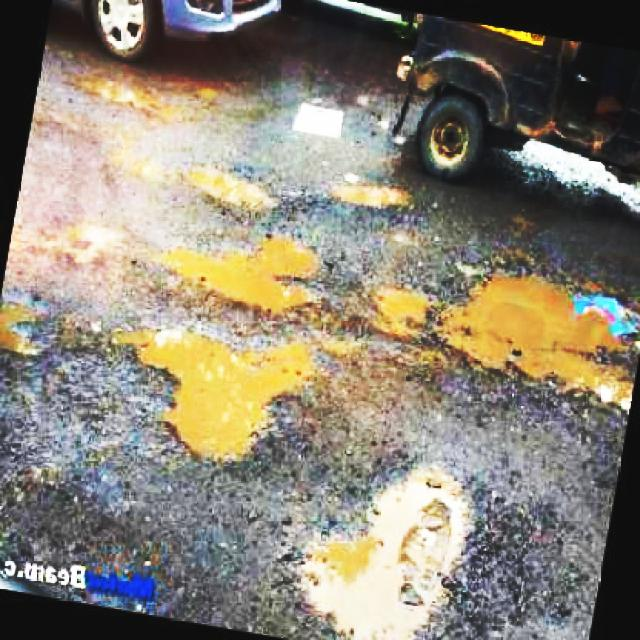pothole: (432, 243, 640, 422), (289, 469, 497, 640), (134, 312, 326, 471), (162, 220, 330, 320), (360, 265, 440, 349), (77, 68, 181, 126), (183, 161, 283, 214), (31, 217, 134, 263), (330, 172, 412, 214), (0, 291, 45, 357), (104, 128, 156, 180)
